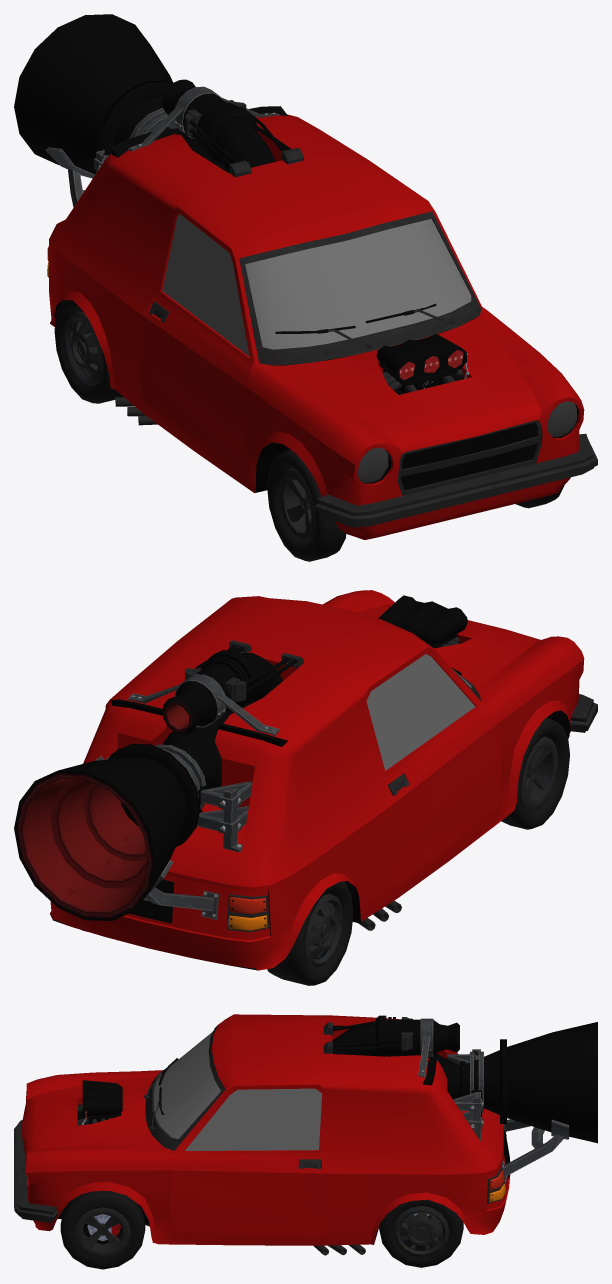
File: vip5.glb
3 views of the same model, one above another, from view 1: azimuth 30°, elevation 25°; view 2: azimuth 150°, elevation 25°; view 3: azimuth 270°, elevation 25° (orthographic). The views are drawn at different scales.
Visible parts, largest first — view 1: object 2, object 1, object 3, WHEEL_lux_4a.020_low.001_other_lux_5_0, WHEEL_lux_4a.026_low.001_other_lux_5_0; view 2: object 2, object 1, object 3, WHEEL_lux_4a.026_low.001_other_lux_5_0, WHEEL_lux_4a.020_low.001_other_lux_5_0; view 3: object 2, object 1, object 3, WHEEL_lux_4a.020_low_other_lux_5_0, WHEEL_lux_4a.026_low_other_lux_5_0.
Boxes of the visible parts, x1,y1,x2,y2 form: object 2: [49, 114, 584, 539]; object 1: [14, 14, 597, 527]; object 3: [47, 214, 577, 482]; WHEEL_lux_4a.020_low.001_other_lux_5_0: [267, 449, 346, 561]; WHEEL_lux_4a.026_low.001_other_lux_5_0: [54, 300, 123, 403]; object 2: [50, 590, 584, 970]; object 1: [14, 595, 597, 970]; object 3: [228, 654, 475, 930]; WHEEL_lux_4a.026_low.001_other_lux_5_0: [267, 881, 353, 985]; WHEEL_lux_4a.020_low.001_other_lux_5_0: [501, 717, 569, 829]; object 2: [21, 1014, 510, 1245]; object 1: [14, 1015, 597, 1255]; object 3: [153, 1032, 506, 1202]; WHEEL_lux_4a.020_low_other_lux_5_0: [60, 1191, 145, 1269]; WHEEL_lux_4a.026_low_other_lux_5_0: [379, 1199, 463, 1267].
Bounding box in the file's own units: 1.52 × 1.5 × 3.8.
3 materials, 2 textured.
